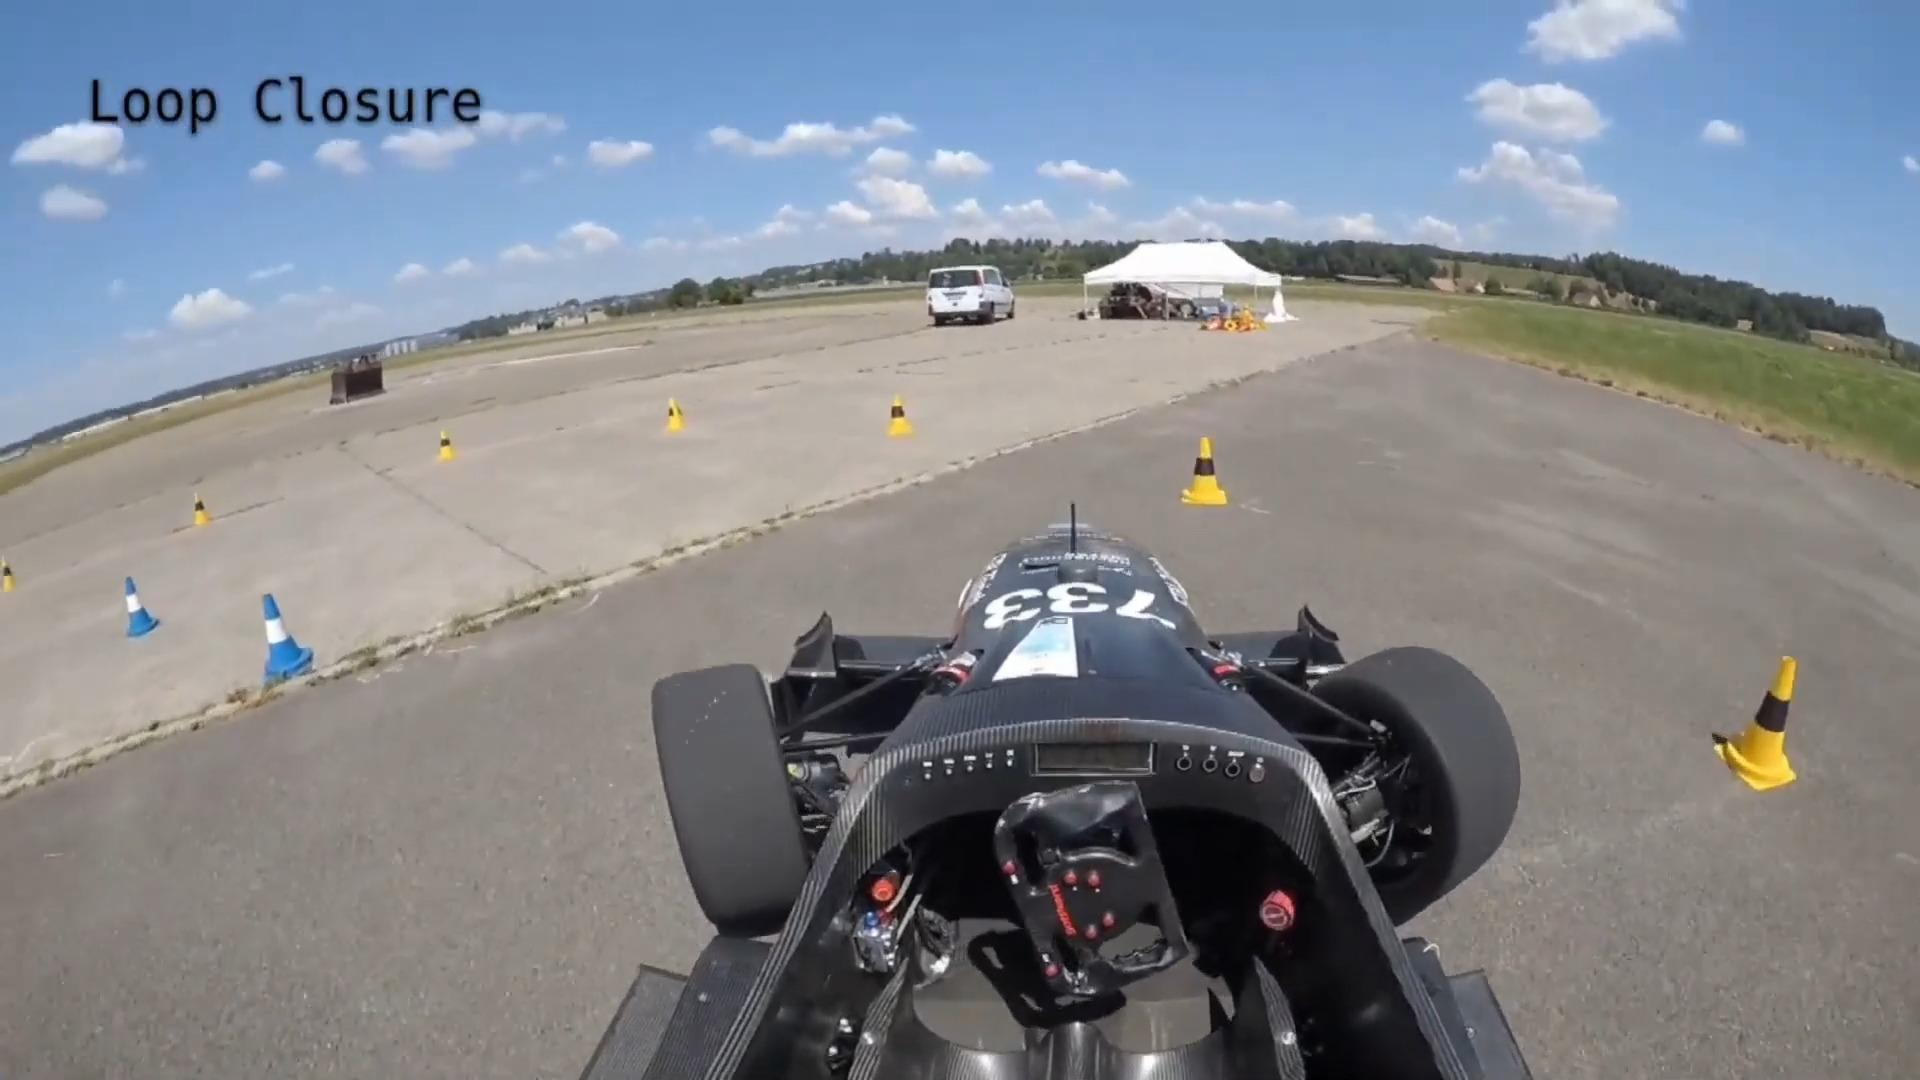blue_cone: (264, 595, 315, 683), (125, 580, 162, 638)
yellow_cone: (1712, 653, 1801, 791), (1180, 434, 1230, 506), (886, 396, 914, 438), (666, 396, 687, 431), (439, 429, 458, 460)
